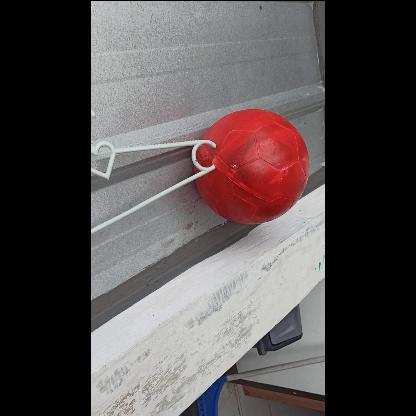red_ball: (194, 107, 310, 223)
